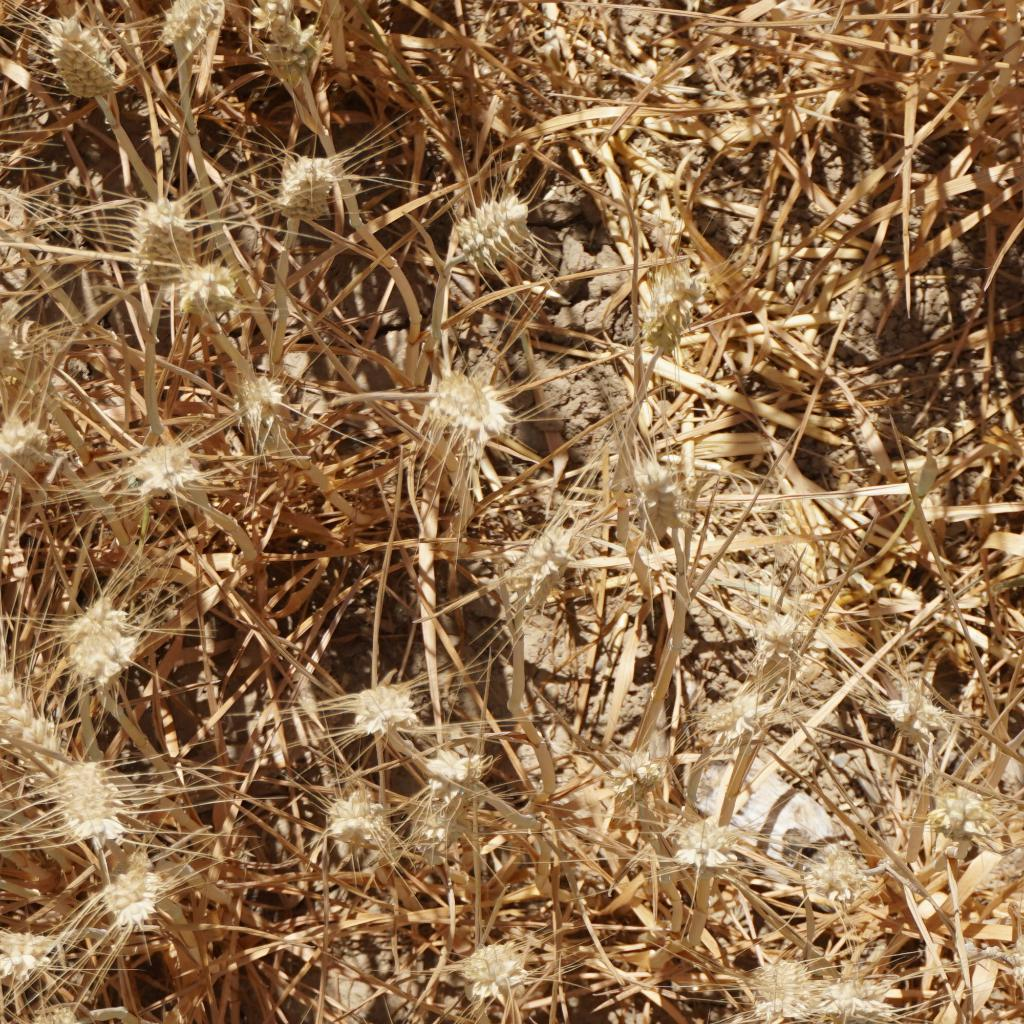0-0: (407, 342, 521, 449), (403, 750, 496, 880), (865, 675, 984, 763), (86, 852, 183, 947), (233, 0, 328, 94), (39, 6, 132, 100), (43, 754, 134, 842), (614, 444, 697, 539), (446, 193, 551, 265), (53, 598, 130, 693), (500, 514, 572, 614), (640, 263, 714, 358), (321, 785, 399, 874), (118, 427, 208, 502), (744, 614, 826, 695), (0, 657, 58, 768), (155, 0, 238, 74), (163, 248, 240, 325), (807, 840, 882, 917), (923, 779, 996, 858), (238, 351, 304, 433), (123, 193, 183, 283), (807, 970, 905, 1024), (273, 149, 344, 222), (740, 943, 805, 1016), (665, 803, 738, 868), (689, 683, 750, 754), (344, 671, 405, 740), (0, 401, 49, 480), (458, 931, 518, 992), (612, 736, 659, 797), (990, 921, 1024, 1004), (0, 927, 37, 984), (0, 313, 25, 376), (4, 1006, 90, 1024)
